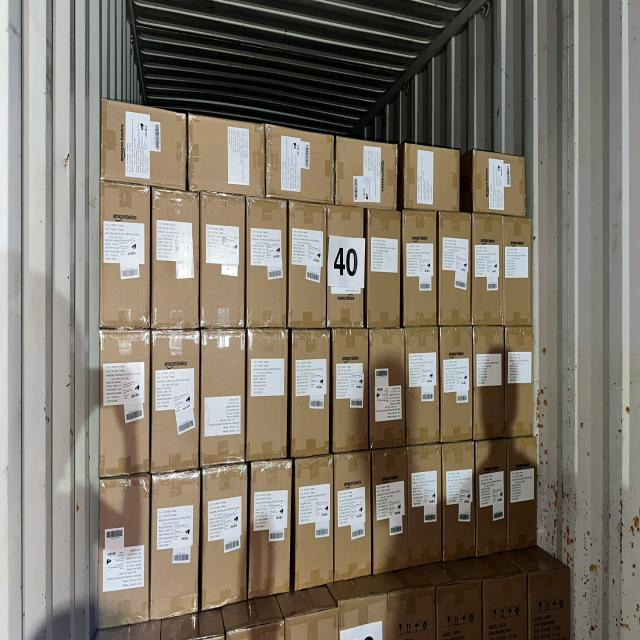Carton: (102, 97, 187, 190), (101, 480, 152, 630), (149, 470, 199, 619), (101, 331, 151, 479), (104, 182, 153, 328), (150, 328, 199, 472), (150, 187, 198, 330), (202, 463, 248, 611), (200, 330, 247, 469), (188, 118, 264, 201), (200, 198, 246, 330), (251, 460, 293, 602), (264, 128, 334, 206), (248, 328, 290, 458), (247, 198, 289, 326), (297, 456, 336, 588), (290, 328, 330, 456), (288, 199, 327, 326), (335, 455, 372, 588), (327, 204, 367, 325), (371, 449, 407, 577), (336, 138, 399, 211), (333, 331, 369, 455), (368, 329, 404, 452), (408, 447, 442, 571), (440, 444, 474, 566), (406, 329, 441, 447), (366, 208, 400, 326), (404, 209, 438, 325), (476, 442, 509, 560), (436, 211, 470, 325), (405, 144, 460, 214), (438, 327, 471, 441), (474, 328, 507, 442), (503, 324, 535, 436), (506, 440, 537, 554), (474, 153, 528, 218), (473, 213, 503, 324), (501, 215, 530, 325)
